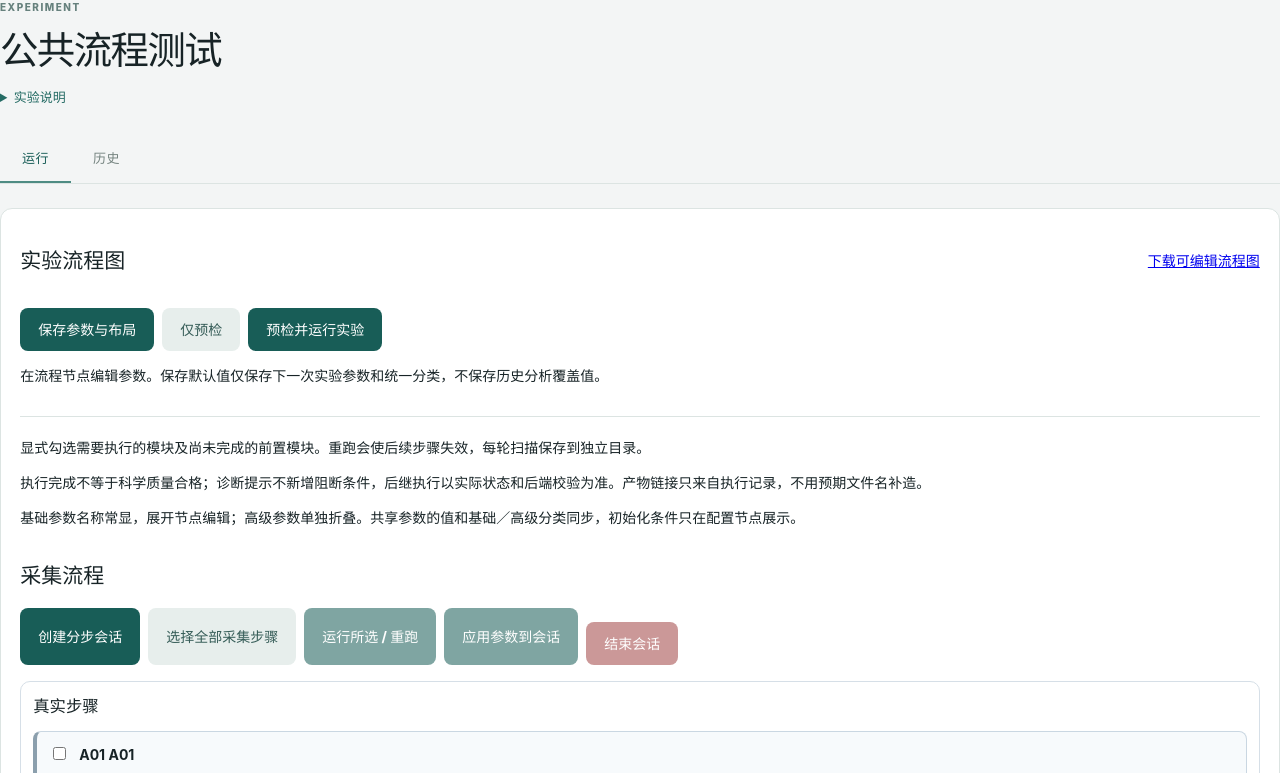
Test: 预检失败不启动，历史填回不保存或启动，保存使用下一次实验值
Expected: the checkbox labelled "A01 A01" is shown, [53, 747, 66, 760]
Click the button "预检并运行实验": (315,330) [248, 308, 382, 351]
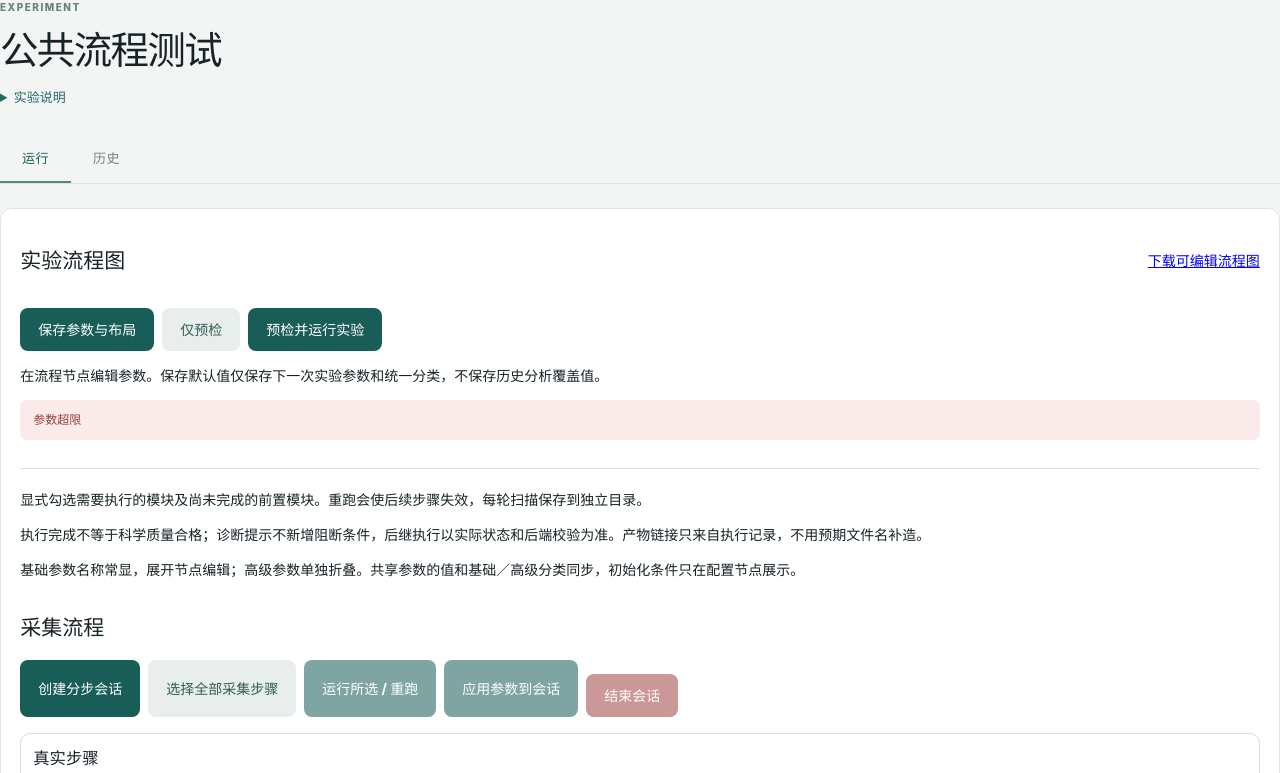
Result: the text "参数超限" is shown at [20, 400, 1260, 440]
Click the tab "历史": (106,160) [71, 137, 142, 183]
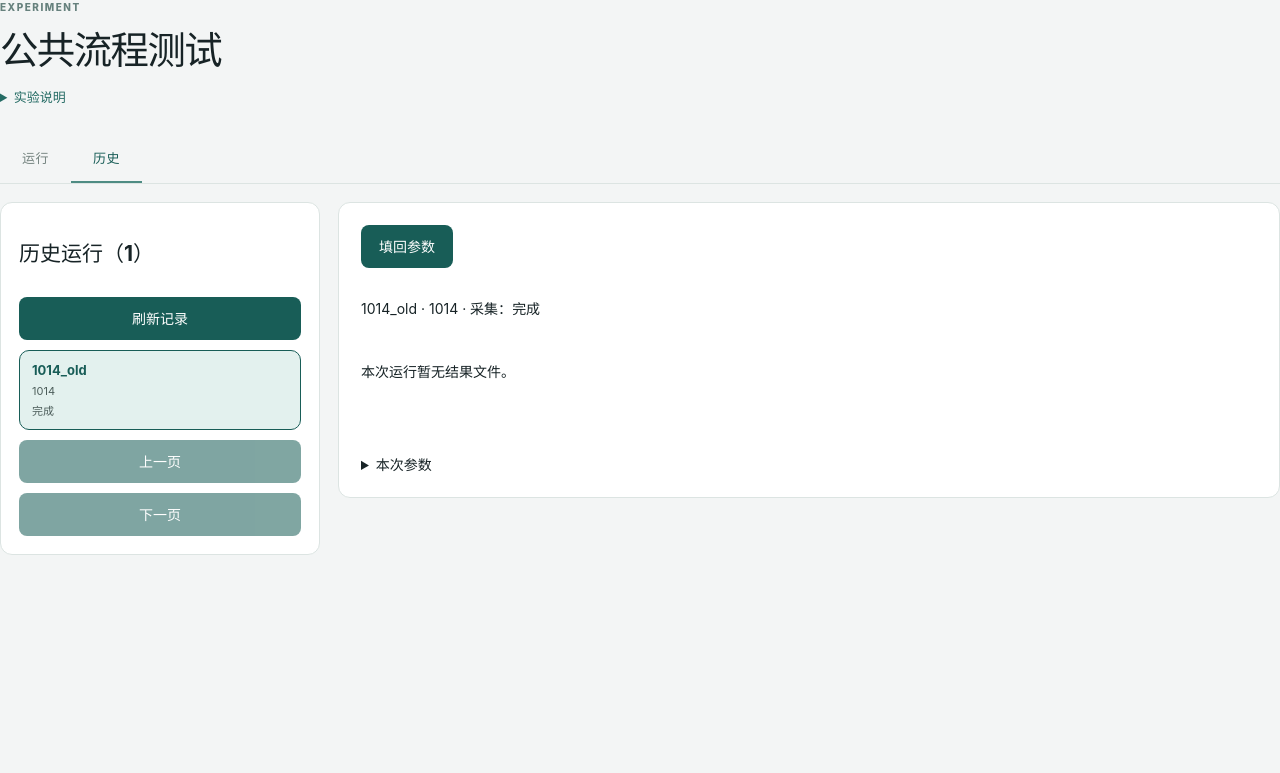
Click the button "填回参数": (407,246) [361, 225, 453, 268]
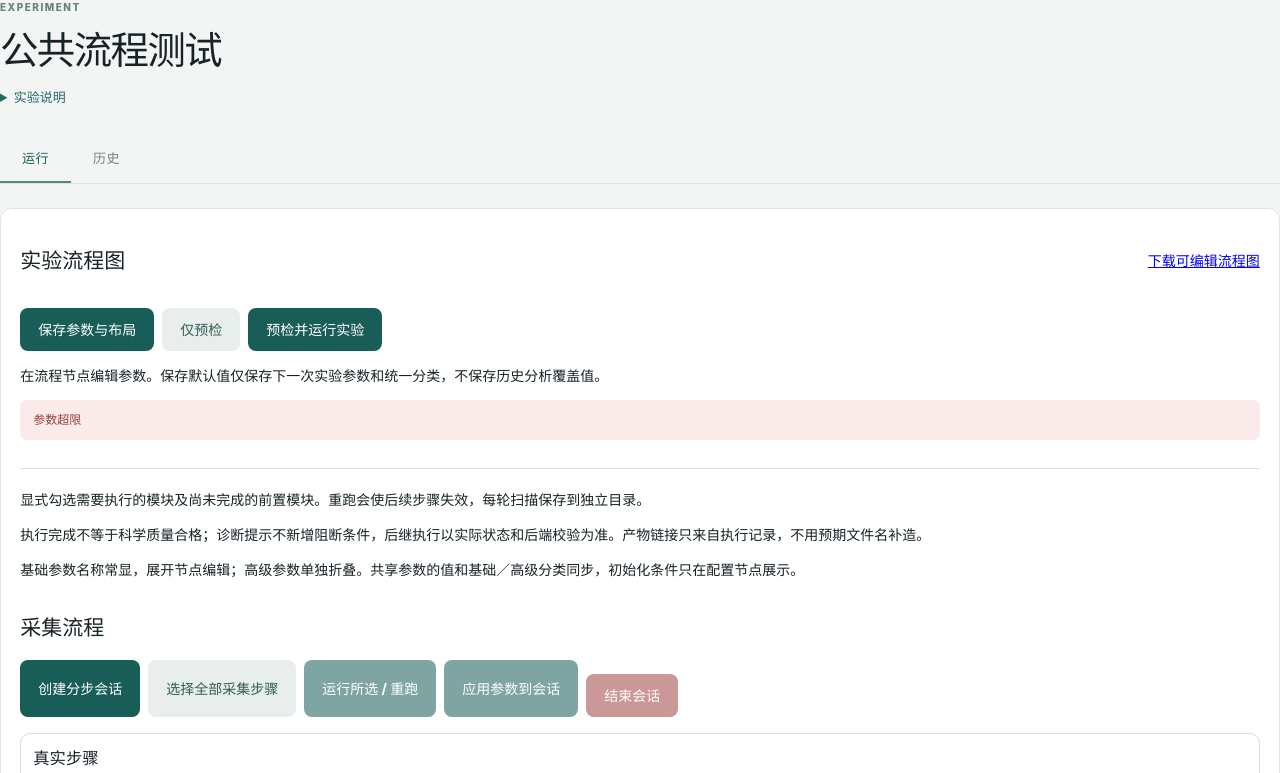
Result: the tab "运行" is selected at [0, 137, 71, 183]
Click the button "保存参数与布局": (87,330) [20, 308, 154, 351]
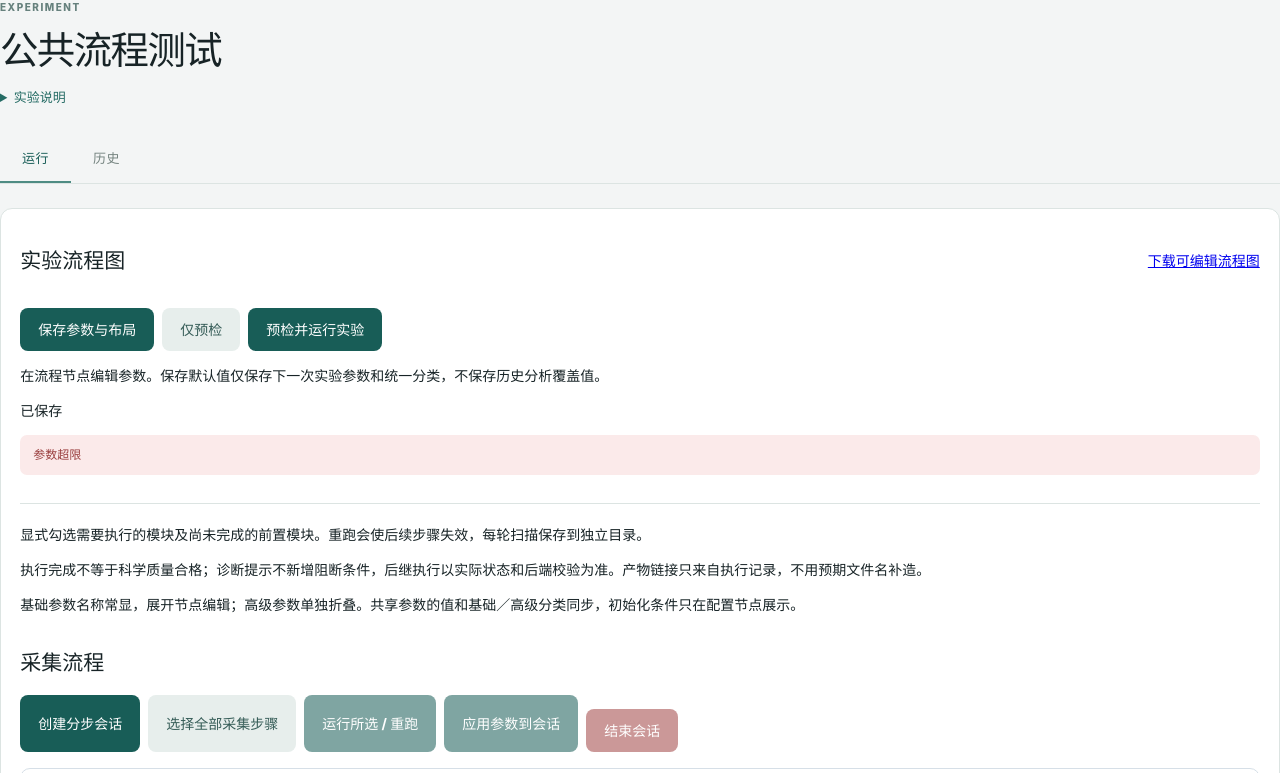
Result: the text "已保存" is shown at [20, 402, 62, 419]
